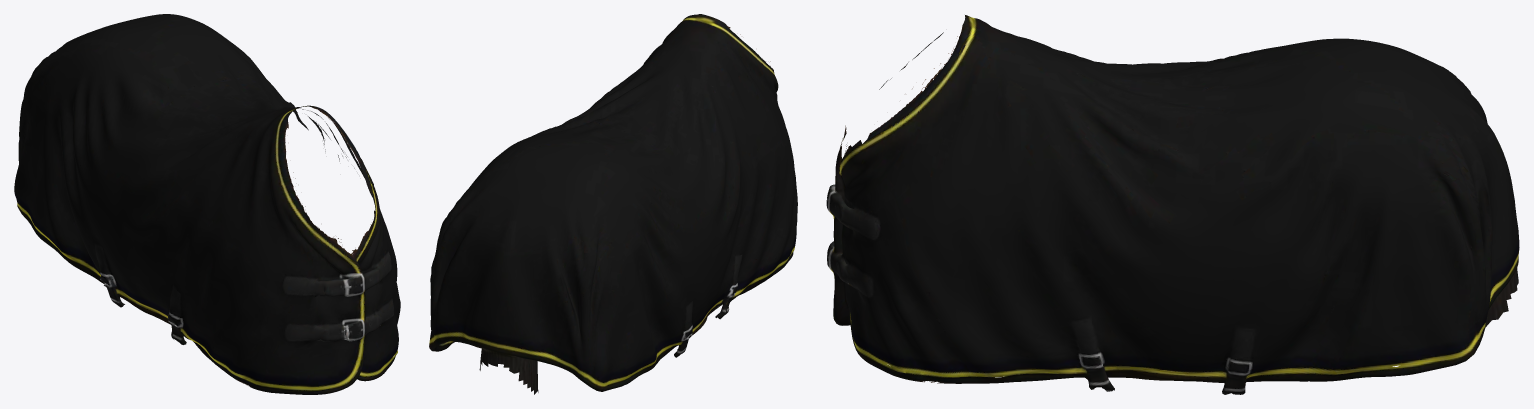
The model's file is lightweight-rug-on-horse.glb.
3 renders of one model, left to right at view 1: azimuth 30°, elevation 25°; view 2: azimuth 150°, elevation 25°; view 3: azimuth 270°, elevation 25°, orthographic. The views are drawn at different scales.
Parts seen in each view (by area): view 1: tripo_node_616bb127; view 2: tripo_node_616bb127; view 3: tripo_node_616bb127.
Boxes of the visible parts, <box> form: tripo_node_616bb127: <box>14,14,400,394</box>; tripo_node_616bb127: <box>429,14,797,394</box>; tripo_node_616bb127: <box>826,15,1519,394</box>.
Bounding box in the file's own units: 0.7038 × 0.8813 × 1.68.
1 material, 1 textured.
